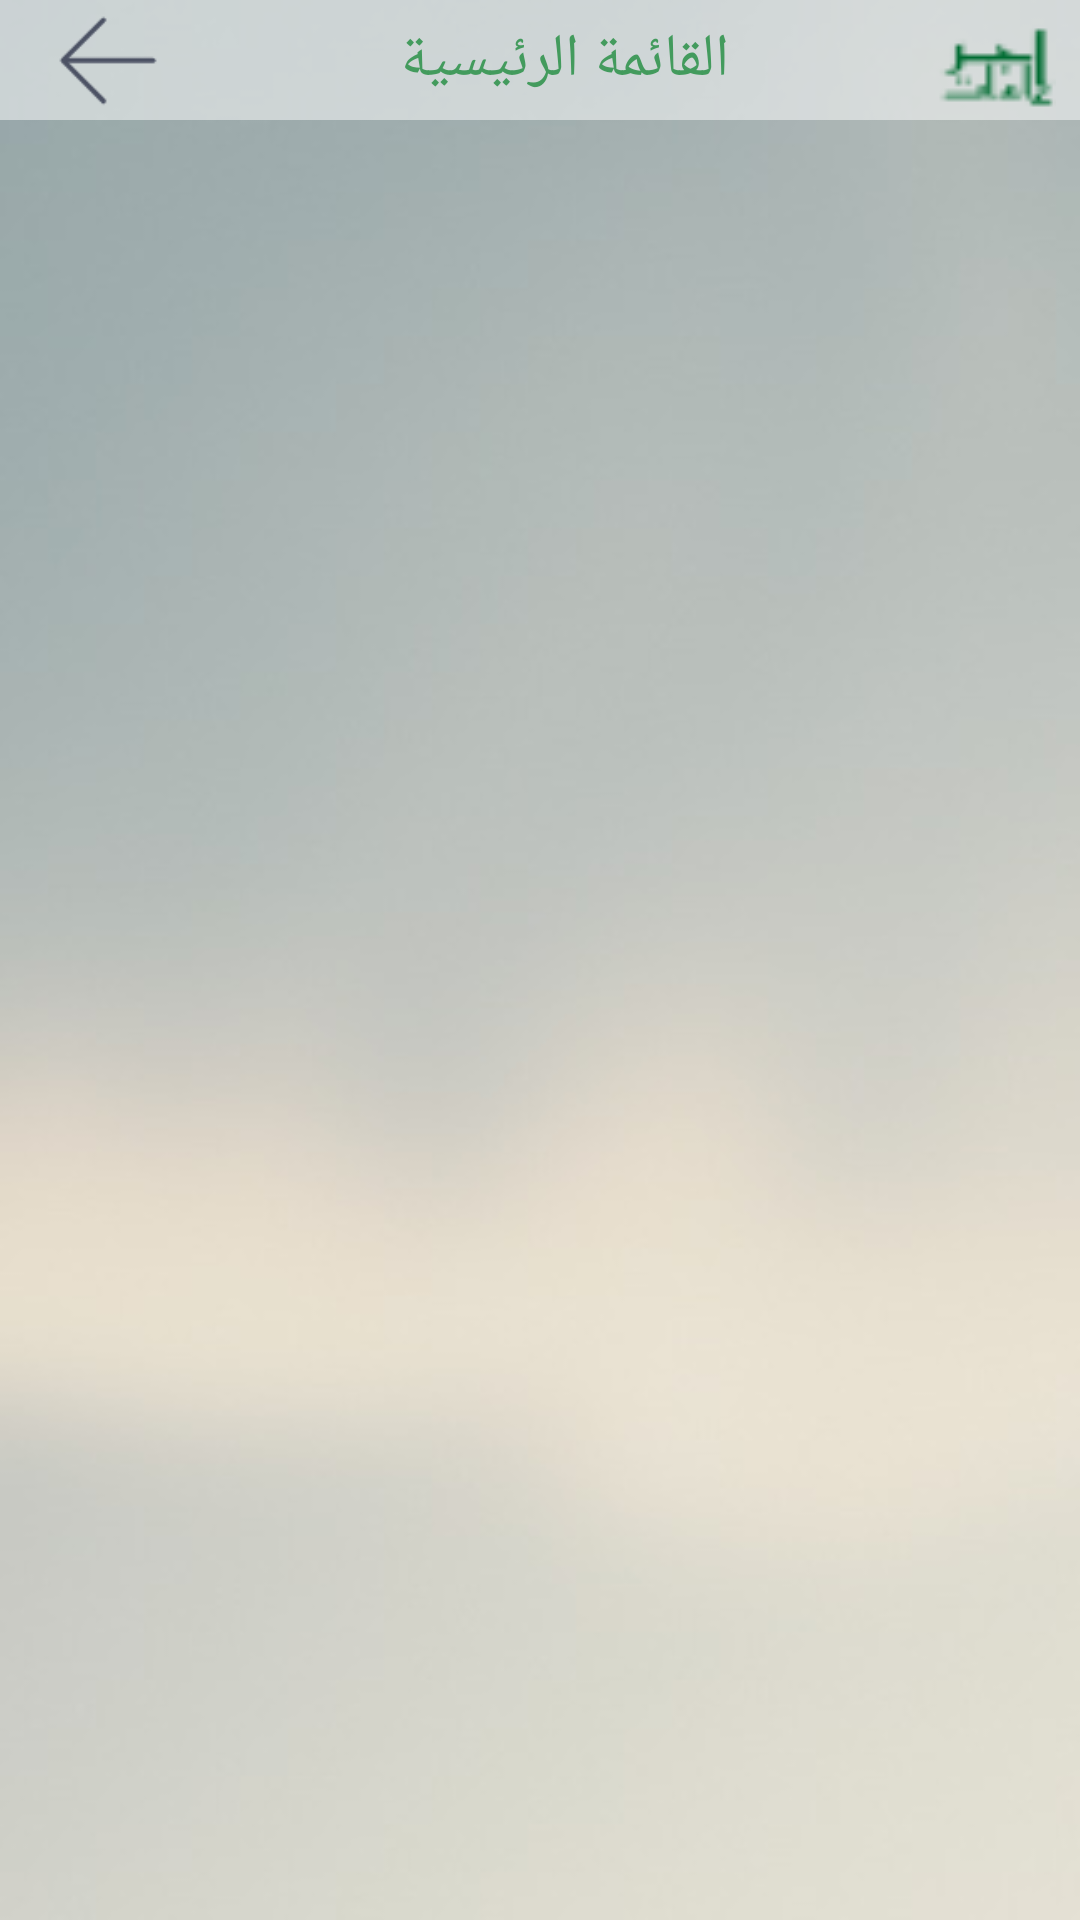

Icon bounding boxes for this 1080 x 1920 phone screenshot, format bbox=[x1, y1, x2, y2]:
back: bbox=[60, 17, 157, 104]
